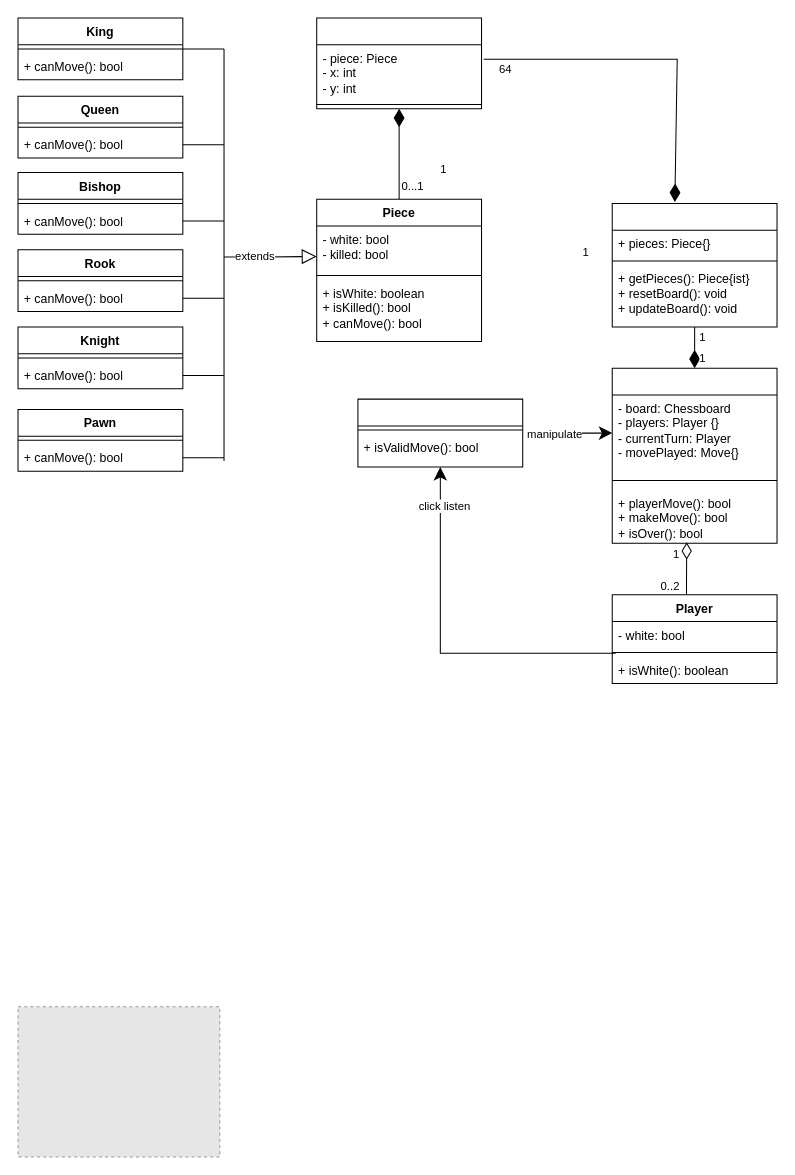
The diagram is 795 pixels wide and 1175 high, and some of its shapes have lost their labels. Grey dashed boxes stand in for pictures. Here are the shapes that lost their labels. From the top down, the box of each, then its label:
(316, 17, 482, 109): Tile
(611, 202, 777, 327): ChessBoard
(357, 398, 523, 467): MoveListener
(611, 367, 777, 543): ChessGame
